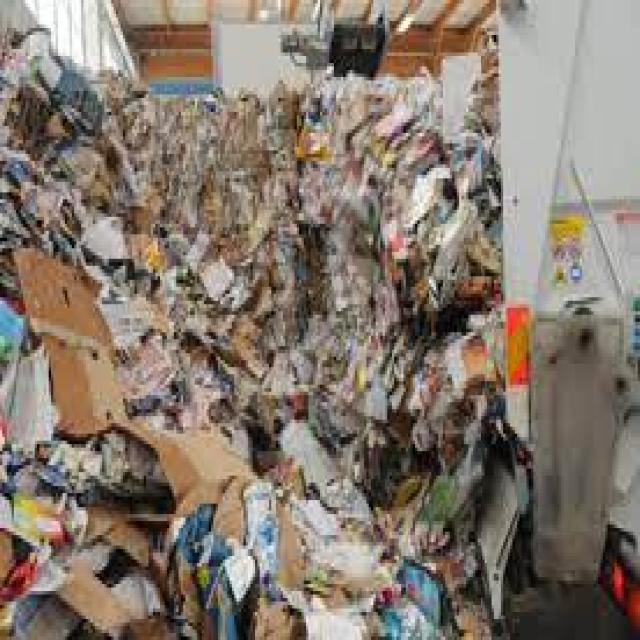cardboard: (28, 248, 134, 469), (21, 490, 139, 633), (169, 437, 255, 546)
metal: (526, 311, 620, 588)
trash: (28, 66, 461, 245), (264, 280, 490, 490)
